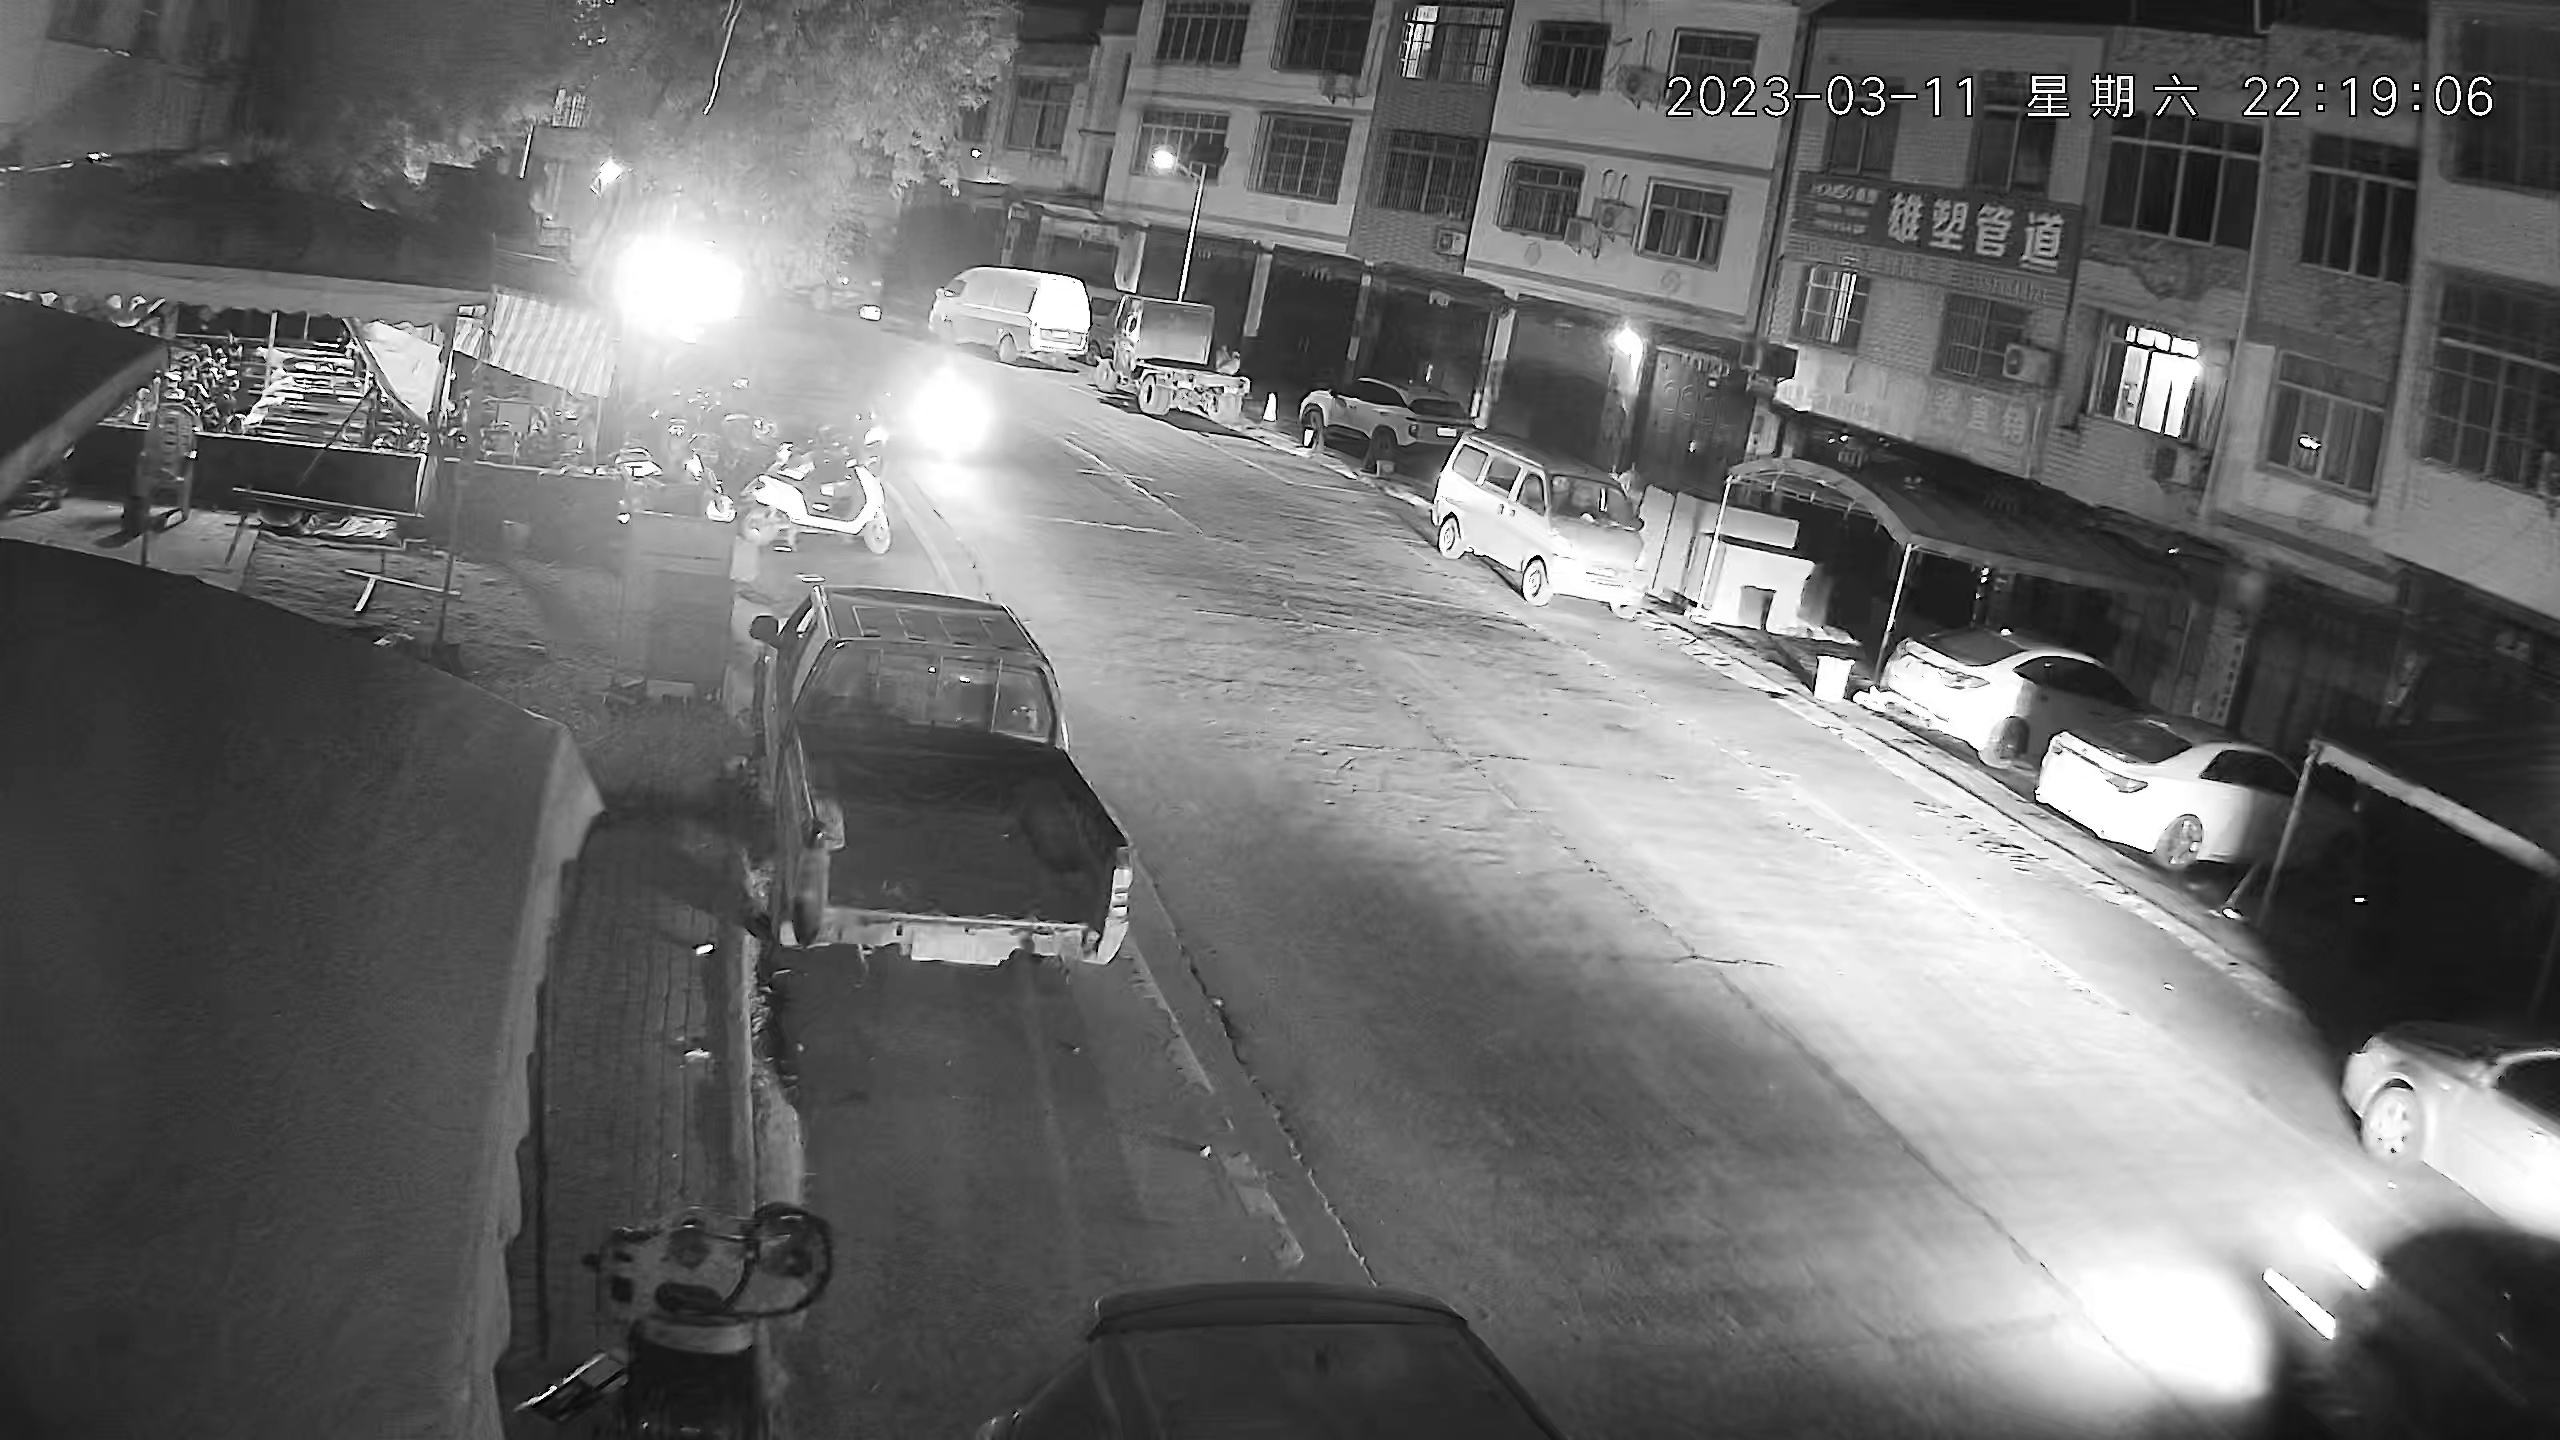motorcycle: (747, 450, 897, 556), (612, 429, 724, 529)
pickup: (744, 580, 1134, 986)
sedan: (997, 1289, 1547, 1440), (2055, 703, 2305, 904), (2363, 1009, 2560, 1241), (1904, 628, 2127, 770)
suv: (744, 331, 872, 448), (1303, 380, 1466, 464)
tricycle: (1113, 295, 1248, 431)
truck: (925, 269, 1085, 367)
van: (1438, 434, 1655, 636)
